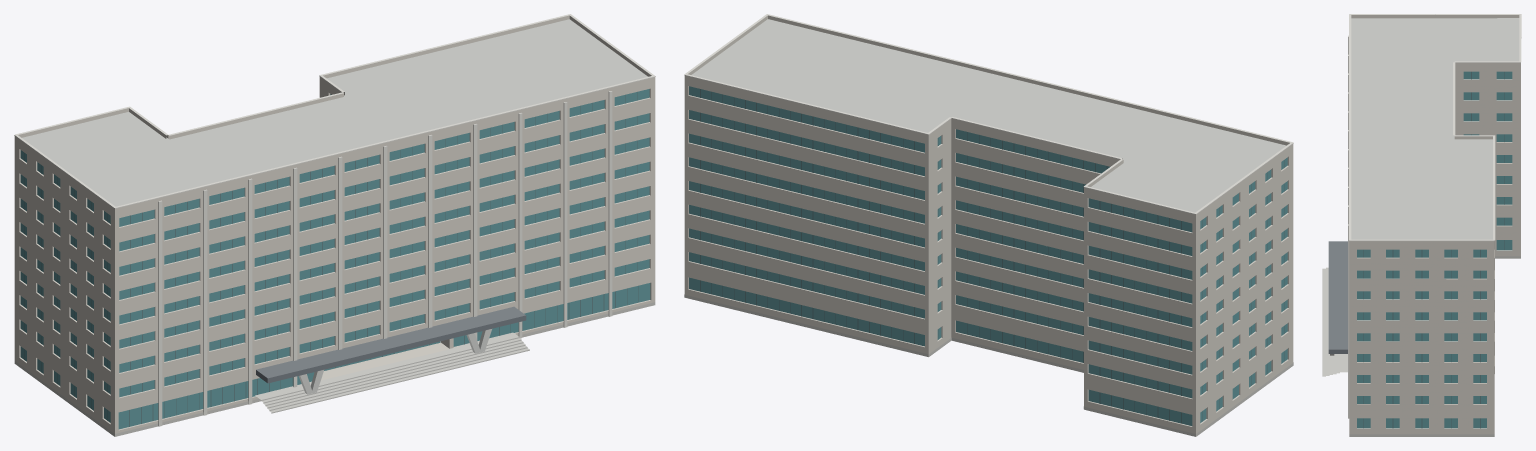
3 renders of one model, left to right at view 1: azimuth 30°, elevation 25°; view 2: azimuth 150°, elevation 25°; view 3: azimuth 270°, elevation 25°, orthographic. The views are drawn at different scales.
Visible parts, largest first — view 1: multimedia__wall, multimedia__glass, multimedia__roof, multimedia__trim, multimedia__parapet, multimedia__externalStairTreads, multimedia__canopyTop, multimedia__frame, multimedia__externalStairRisers, multimedia__canopy, multimedia__base, multimedia__entranceThreshold_0 (+2 smaller); view 2: multimedia__wall, multimedia__glass, multimedia__roof, multimedia__parapet, multimedia__frame, multimedia__trim, multimedia__base; view 3: multimedia__wall, multimedia__roof, multimedia__glass, multimedia__trim, multimedia__canopyTop, multimedia__parapet, multimedia__externalStairTreads, multimedia__frame, multimedia__base.
Boxes of the visible parts, x1,y1,x2,y2 form: multimedia__wall: (14,79,655,436); multimedia__glass: (20,89,650,429); multimedia__roof: (22,19,647,206); multimedia__trim: (14,14,655,426); multimedia__parapet: (14,15,655,211); multimedia__externalStairTreads: (259,335,529,412); multimedia__canopyTop: (256,306,525,378); multimedia__frame: (24,92,638,426); multimedia__externalStairRisers: (261,337,529,413); multimedia__canopy: (256,315,526,383); multimedia__base: (14,302,655,436); multimedia__entranceThreshold_0: (321,342,449,380); multimedia__wall: (684,78,1293,436); multimedia__glass: (689,86,1287,425); multimedia__roof: (691,19,1286,212); multimedia__parapet: (684,15,1293,217); multimedia__frame: (700,89,1284,423); multimedia__trim: (684,14,1293,214); multimedia__base: (684,294,1293,436); multimedia__wall: (1349,65,1520,434); multimedia__roof: (1351,18,1519,239); multimedia__glass: (1357,71,1512,428); multimedia__trim: (1348,14,1521,418); multimedia__canopyTop: (1328,241,1347,349); multimedia__parapet: (1349,15,1520,243); multimedia__externalStairTreads: (1322,267,1343,376); multimedia__frame: (1363,71,1504,428); multimedia__base: (1349,256,1520,436).
Bounding box in the file's own units: 83.76 × 33.87 × 31.09.
